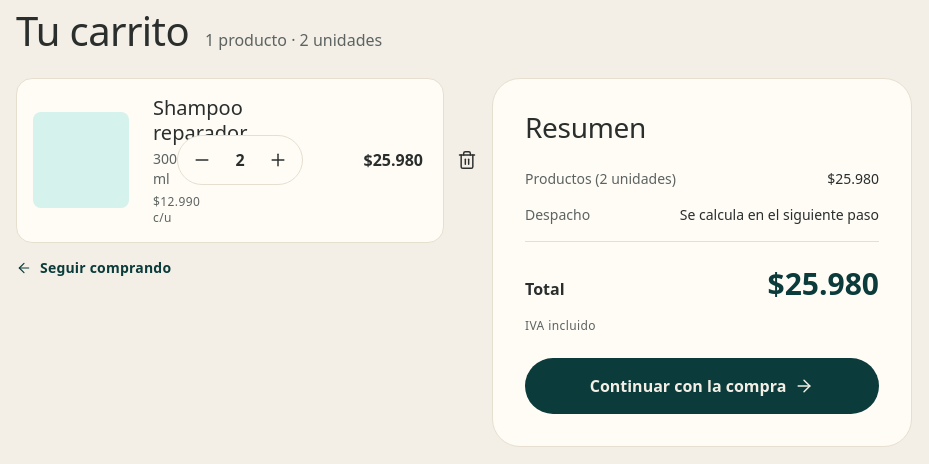
Test: SCRUM-116 · Pantalla del carrito › E5-H1 FE · agregar y cambiar: si el backend rechaza la cantidad, muestra su mensaje en la línea y vuelve a la guardada
What coordinates should you click on to do the following:
click the button named "Agregar una unidad"
I would click on:
 (278, 160)
Its box is x1=258 y1=140 x2=298 y2=180.
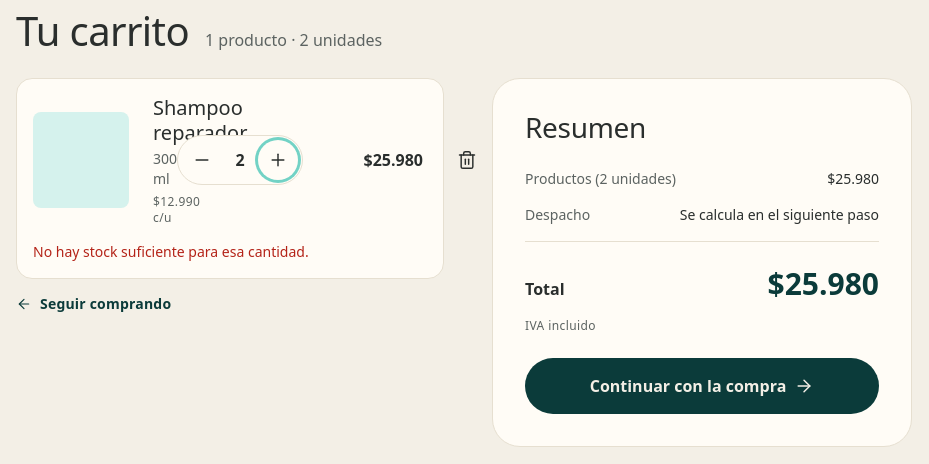
Expected: the text "2" is shown, x1=235 y1=150 x2=245 y2=172
Expected: the message reads "No hay stock suficiente para esa cantidad.", x1=33 y1=242 x2=309 y2=261
